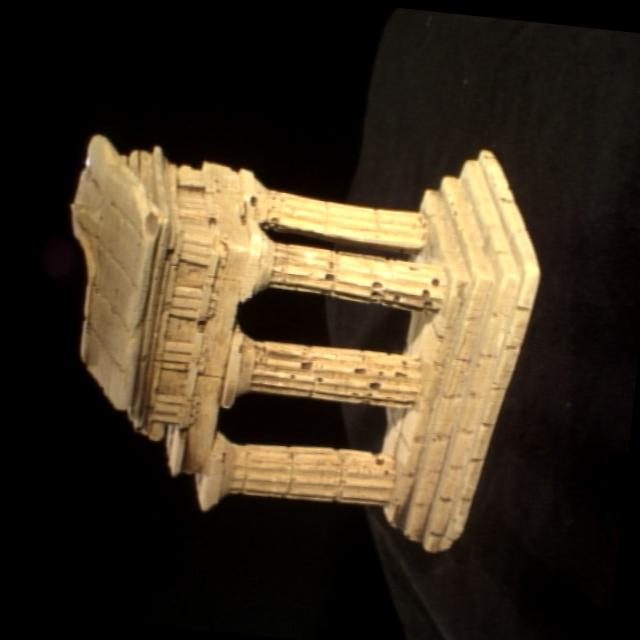Instance-Segmentation: (71, 134, 538, 549)
